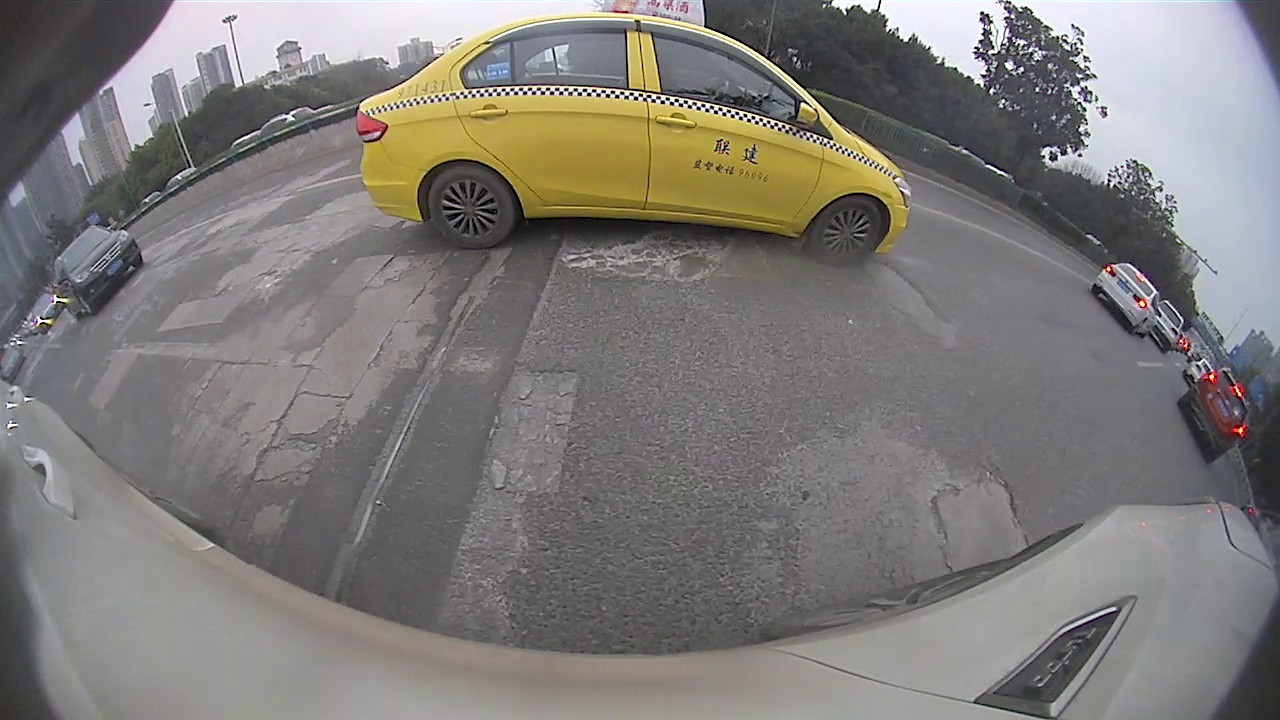car: (357, 3, 911, 263), (53, 225, 143, 318), (1179, 368, 1252, 464), (1093, 263, 1161, 338), (1150, 299, 1183, 355), (26, 292, 62, 335)
front: (810, 197, 883, 265), (77, 293, 95, 317)
rear: (427, 163, 517, 251)
